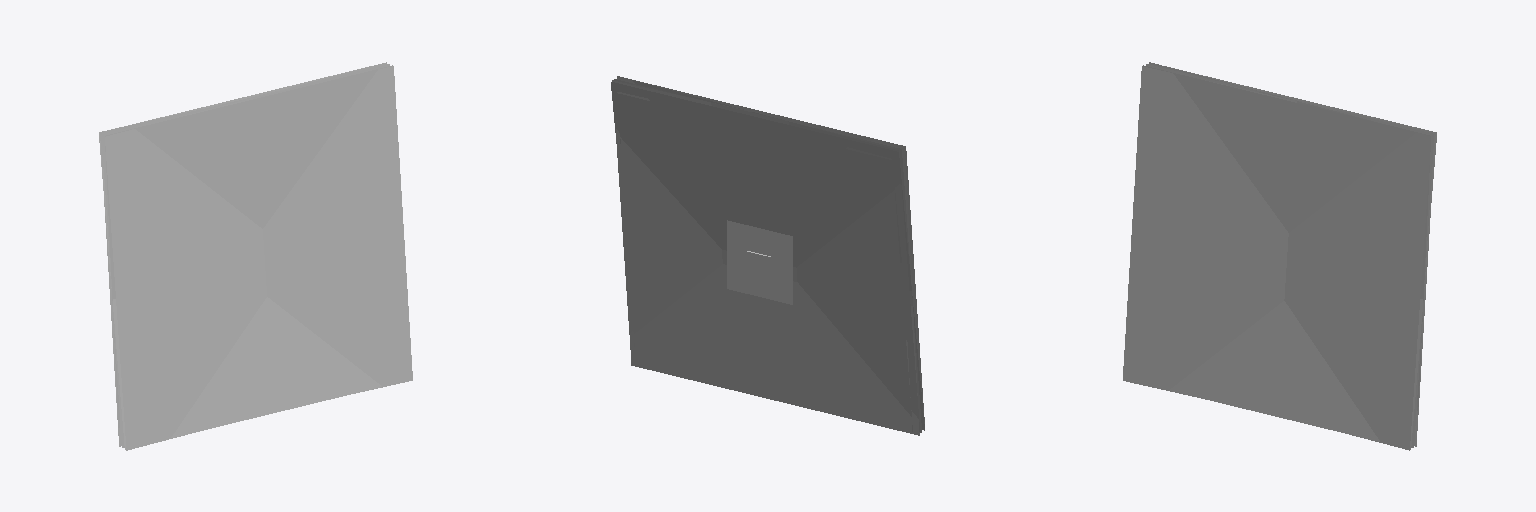
Rendered from rocklighthibeam.obj.
3 views of the same model, side by side, from view 1: azimuth 30°, elevation 25°; view 2: azimuth 150°, elevation 25°; view 3: azimuth 330°, elevation 25° (orthographic).
Visible parts, largest first — view 1: &HeadLight_ffffff_fffff_000; view 2: &HeadLight_ffffff_fffff_000, &RunningLight_ffffff_fffff_100; view 3: &HeadLight_ffffff_fffff_000.
Part boxes in pixels (x1,y1,x2,y2): &HeadLight_ffffff_fffff_000: (99,62,412,450); &HeadLight_ffffff_fffff_000: (611,76,924,435); &RunningLight_ffffff_fffff_100: (727,220,792,304); &HeadLight_ffffff_fffff_000: (1123,62,1436,450).
Bounding box in the file's own units: 2.91 × 2.88 × 0.485.